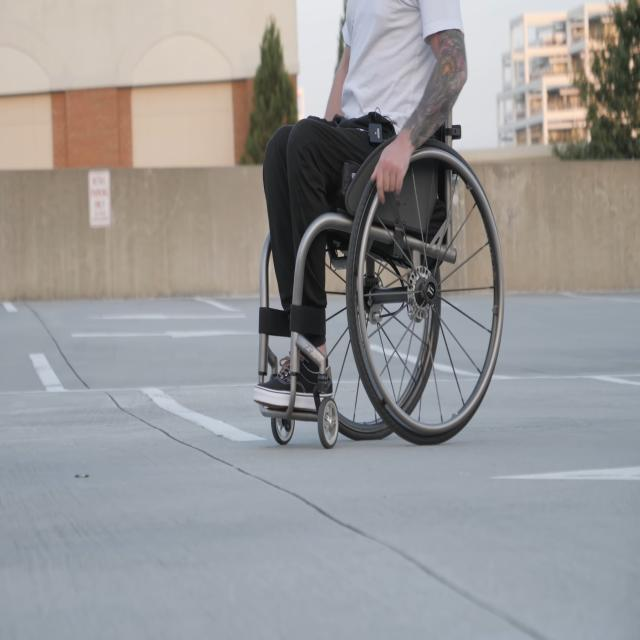wheelchairs: (256, 25, 505, 451)
